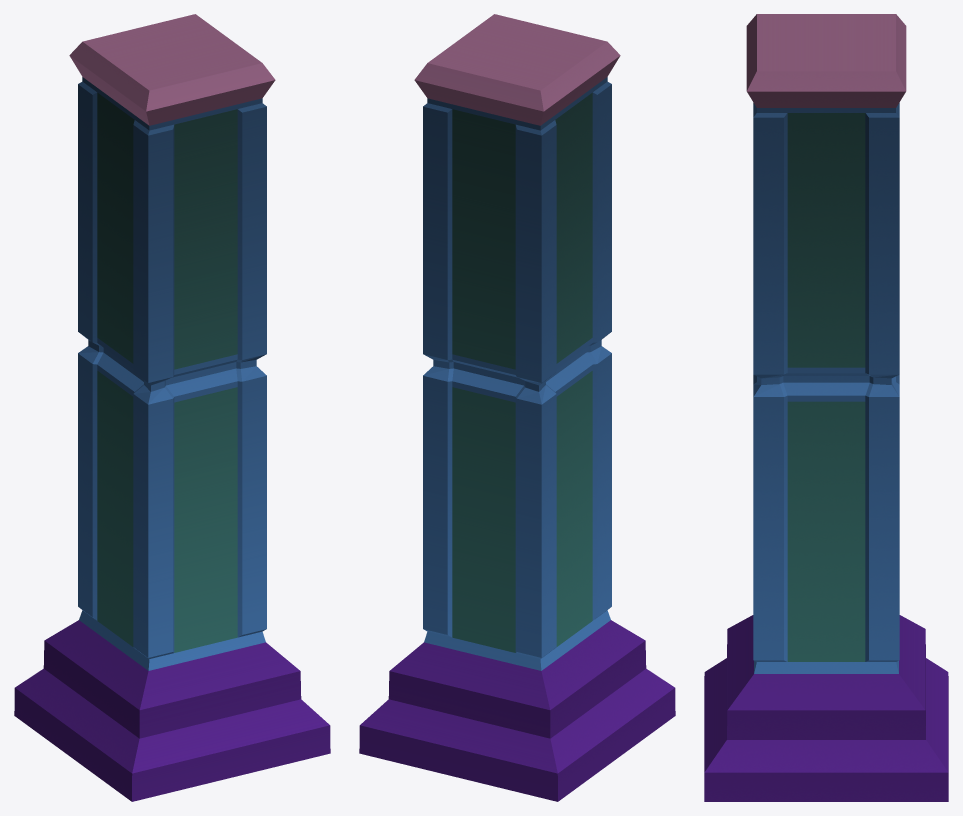
File: Pillar1.FBX
3 views of the same model, side by side, from view 1: azimuth 30°, elevation 25°; view 2: azimuth 150°, elevation 25°; view 3: azimuth 270°, elevation 25° (orthographic). The views are drawn at different scales.
Parts seen in each view (by area): view 1: Pillar 1; view 2: Pillar 1; view 3: Pillar 1.
Part boxes in pixels (x1,y1,x2,y2): Pillar 1: (14,14,330,801); Pillar 1: (359,14,675,801); Pillar 1: (704,14,948,801).
Size of the model in its own units: 9.53 by 31.31 by 9.79.
Materials: 1 (1 with a texture image).
